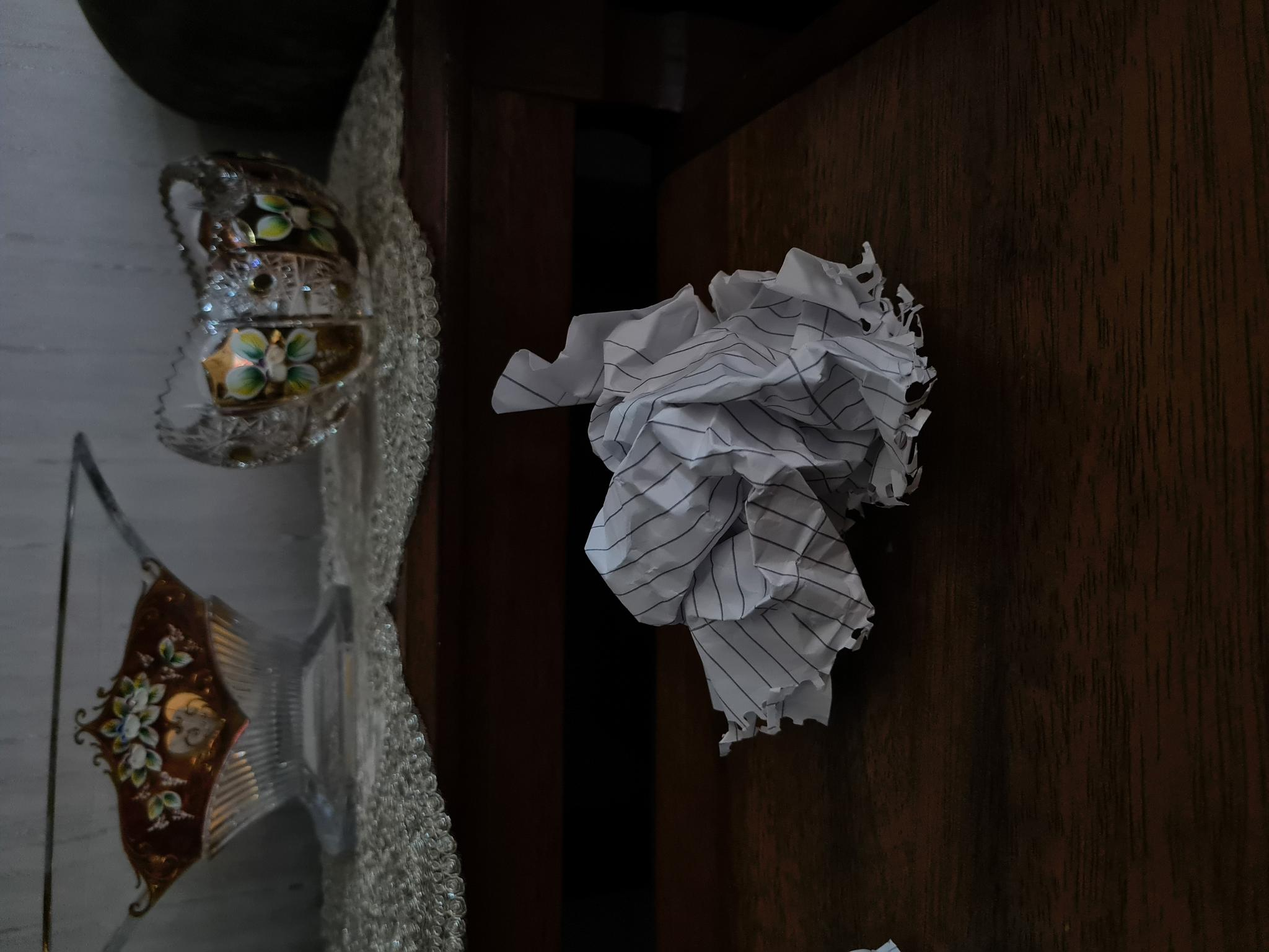Kertas: (191, 501, 722, 935)
